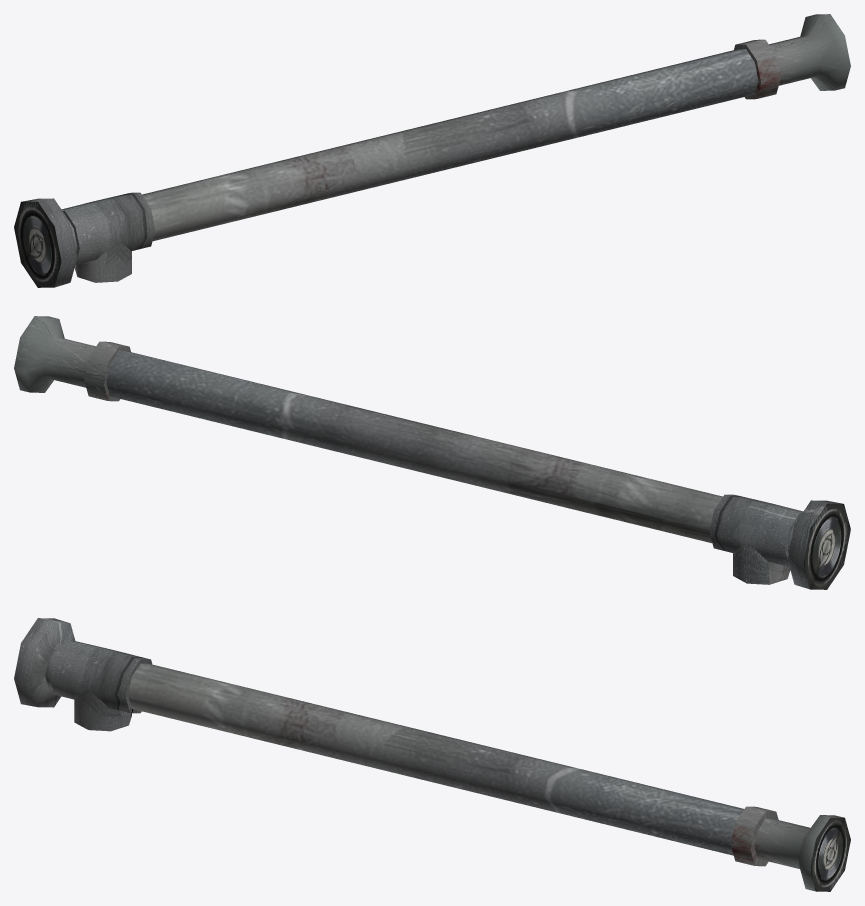
File: pipe.fbx
3 renders of one model, top to bottom at view 1: azimuth 30°, elevation 25°; view 2: azimuth 150°, elevation 25°; view 3: azimuth 330°, elevation 25°, orthographic.
Parts seen in each view (by area): view 1: tuyaubarre; view 2: tuyaubarre; view 3: tuyaubarre.
Part boxes in pixels (x1,y1,x2,y2): tuyaubarre: (14,14,850,287); tuyaubarre: (14,316,850,589); tuyaubarre: (14,618,850,891).
Bounding box in the file's own units: 98.03 × 10.2 × 10.2.
